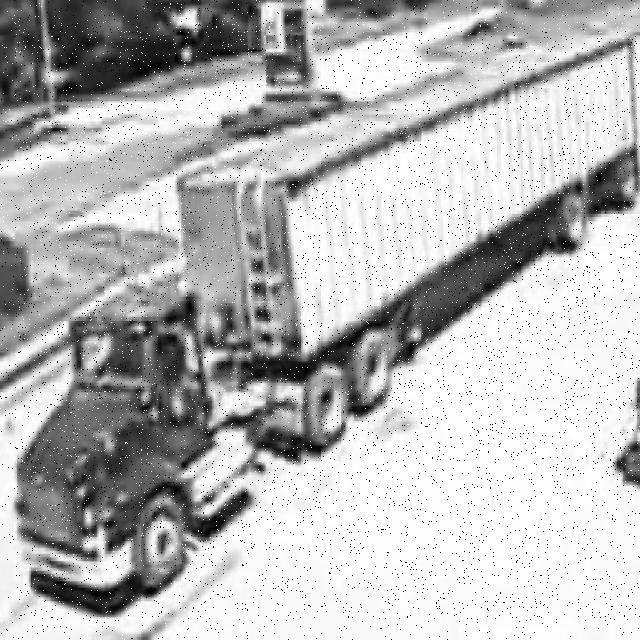Tractor Trailer: (15, 23, 640, 619)
